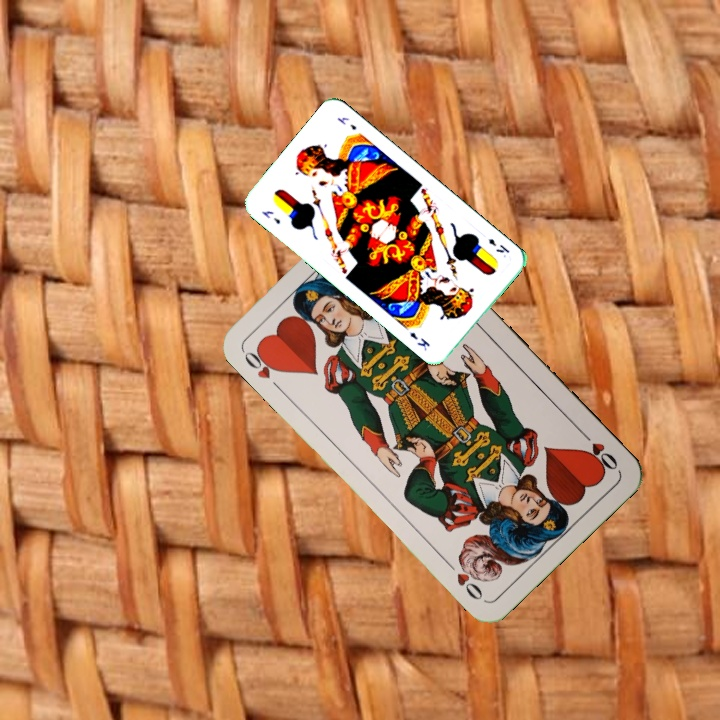EK: (484, 234, 512, 256), (258, 206, 283, 227)
HO: (239, 343, 285, 394), (575, 426, 621, 475)
